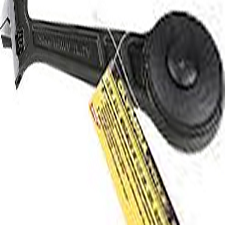Wrench: (1, 2, 225, 154)
